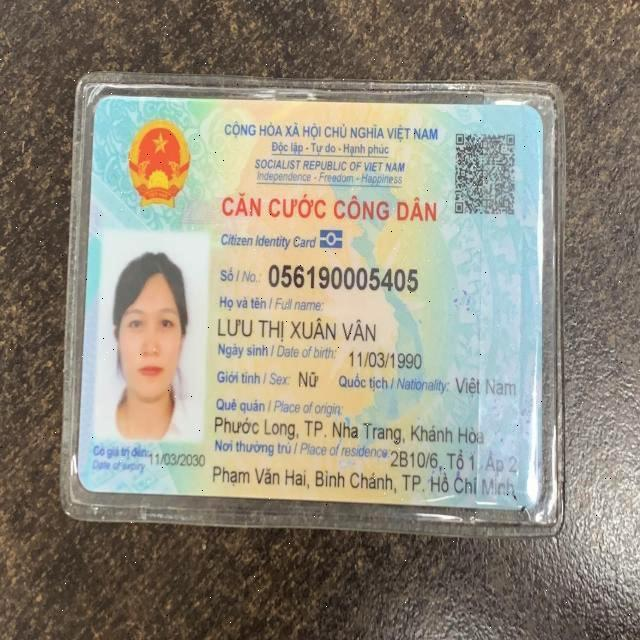current_place: (211, 463, 517, 501), (389, 446, 521, 474)
dob: (345, 344, 420, 370)
expire_date: (148, 448, 207, 467)
gender: (295, 365, 321, 389)
id: (269, 256, 420, 295)
name: (219, 309, 377, 348)
nationality: (454, 374, 516, 400)
origin_place: (214, 411, 487, 447)
